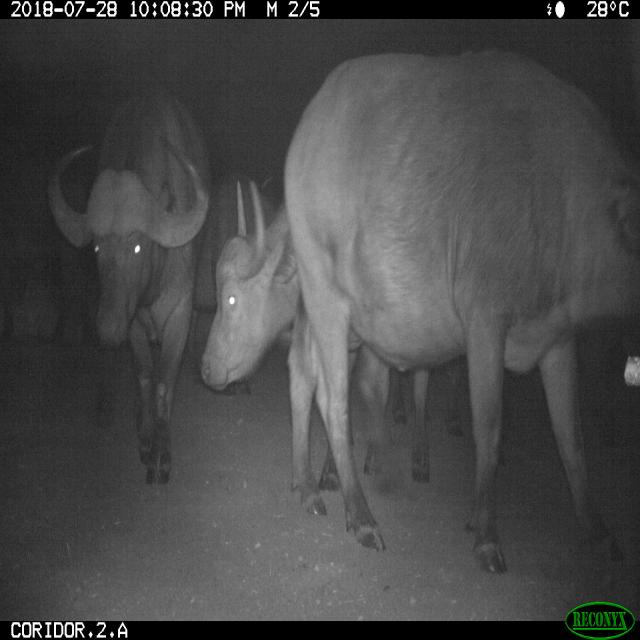buffalo: (74, 58, 639, 543)
